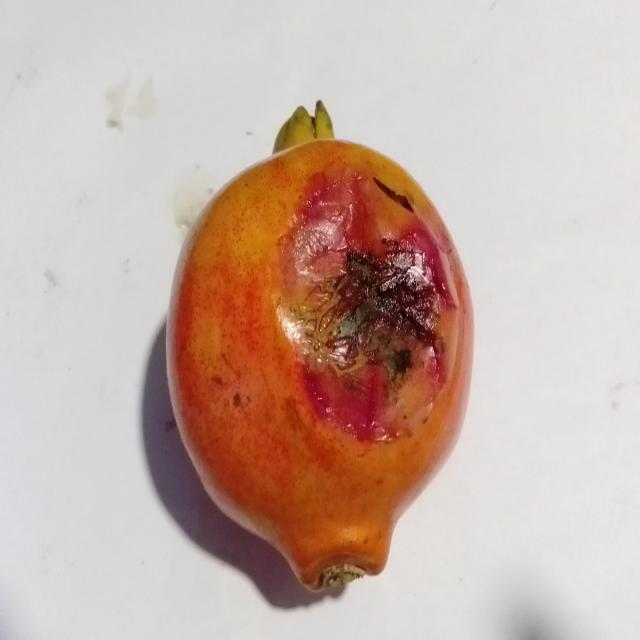Rotten: (158, 98, 480, 601)
